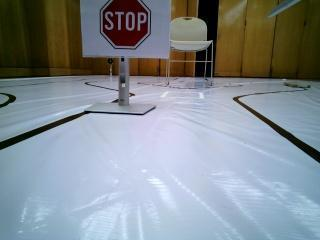stop: (83, 0, 165, 62)
